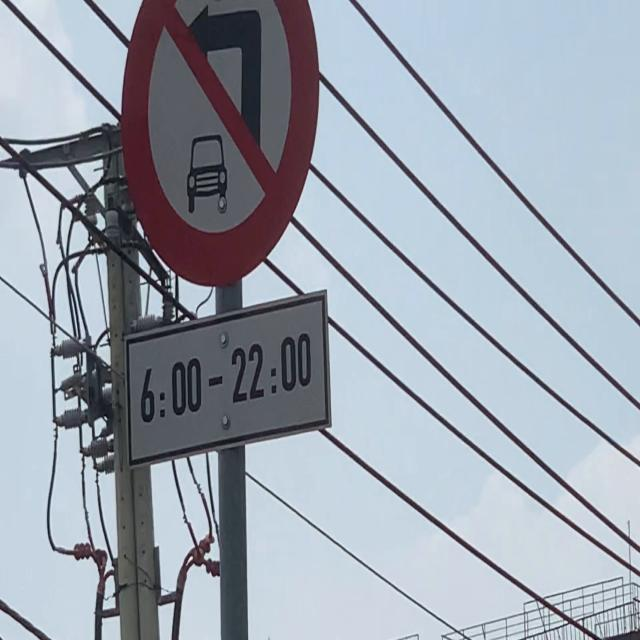Cam re trai: (119, 0, 319, 288)
